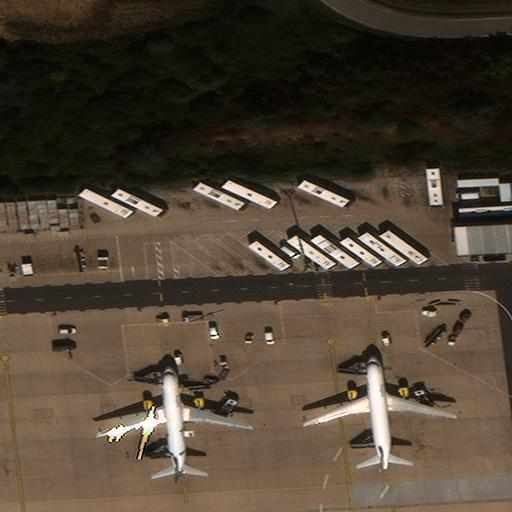Medium Civil Transport: (96, 365, 249, 480), (302, 355, 452, 470)
